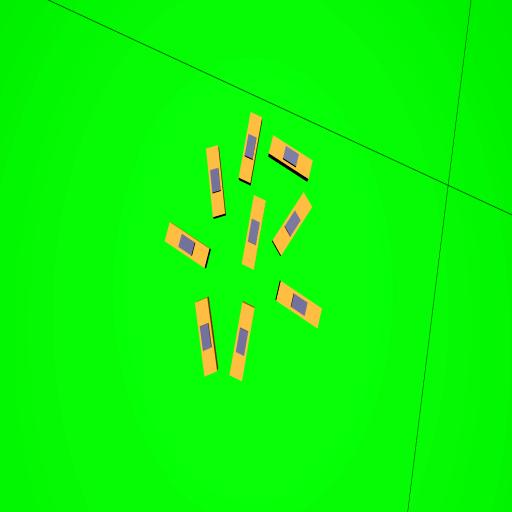objects: (268, 192, 316, 256), (269, 280, 329, 331), (159, 222, 215, 268), (264, 135, 318, 179), (228, 302, 254, 382), (193, 297, 218, 377), (240, 194, 267, 268), (237, 111, 263, 184), (204, 144, 226, 218)
